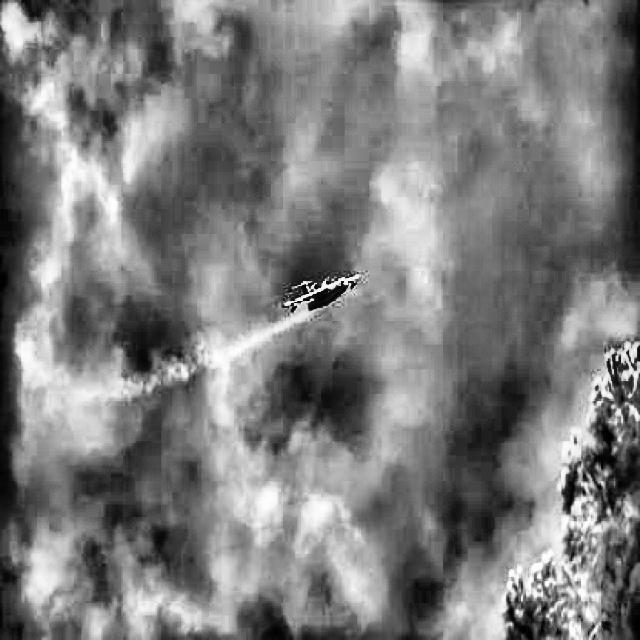Be200: (280, 271, 362, 314)
